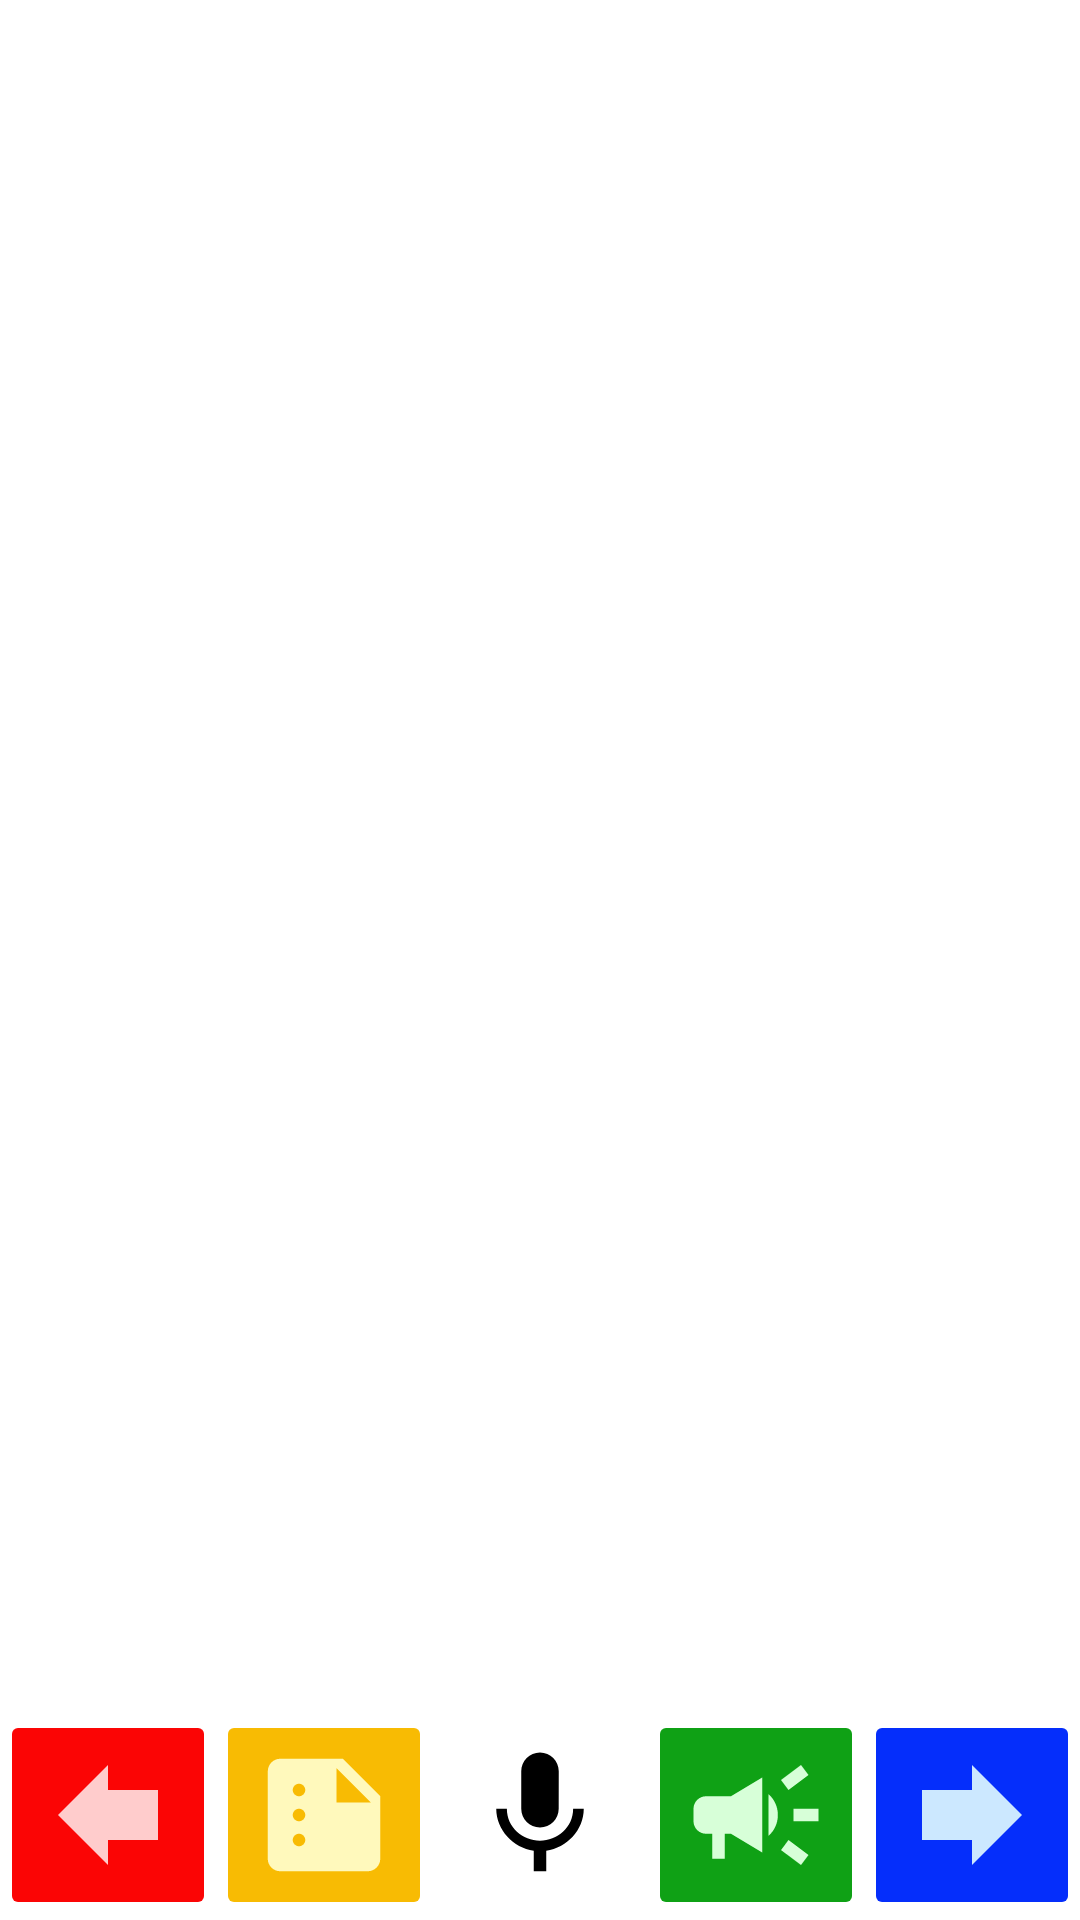

Icons on this 1080w x 1920h Android screen, each with the point to tap as point (x, y):
campaign: point (756, 1815)
forward: point (972, 1815)
mic: point (540, 1812)
summarize: point (324, 1815)
